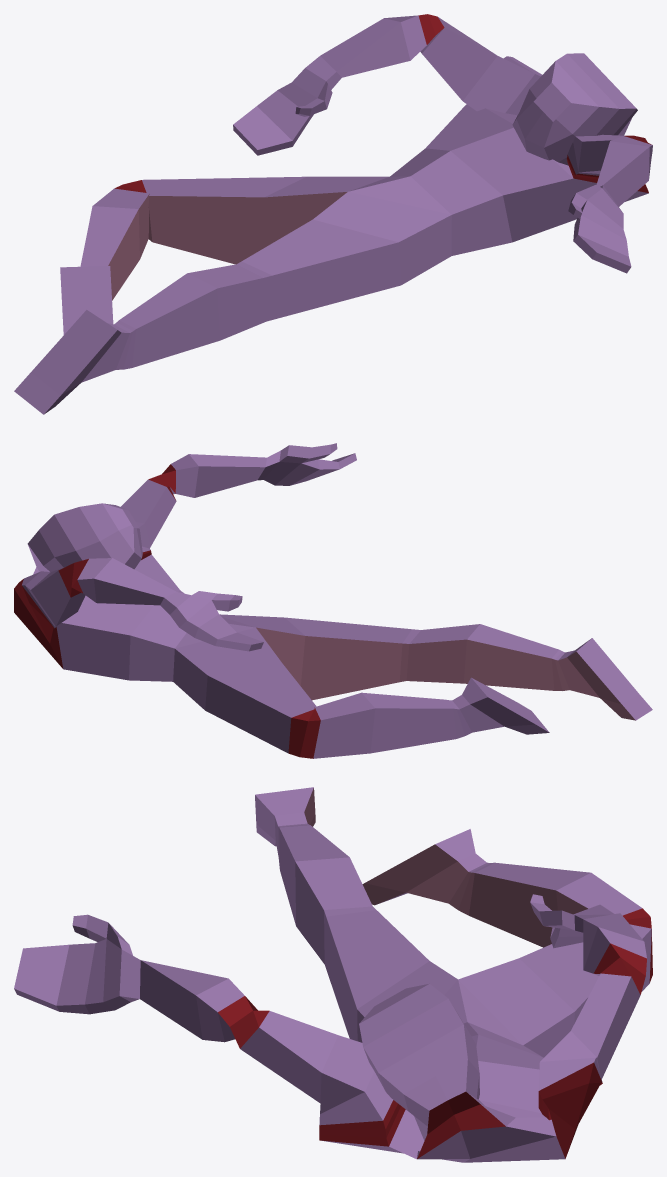
Rendered from NPCsCorpsesOvertime2.fbx.
The picture shows the model from 3 angles, top to bottom: view 1: azimuth 30°, elevation 25°; view 2: azimuth 150°, elevation 25°; view 3: azimuth 270°, elevation 25°; orthographic projection. The views are drawn at different scales.
Parts seen in each view (by area): view 1: NPCV1.004; view 2: NPCV1.004; view 3: NPCV1.004.
Part boxes in pixels (<box>): NPCV1.004: <box>14,14,652,414</box>; NPCV1.004: <box>14,443,652,758</box>; NPCV1.004: <box>14,787,652,1162</box>.
Size of the model in its own units: 1.86 by 1.3 by 0.4961.
